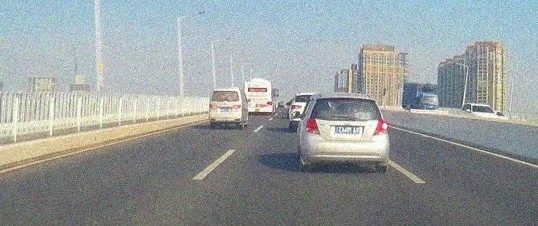L_light: (304, 118, 320, 135), (210, 105, 217, 109)
R_light: (373, 119, 388, 135), (233, 105, 241, 109)
T_light: (341, 98, 352, 102), (223, 91, 228, 93)
day-no: (209, 88, 242, 129)
day-right: (300, 93, 389, 173)
